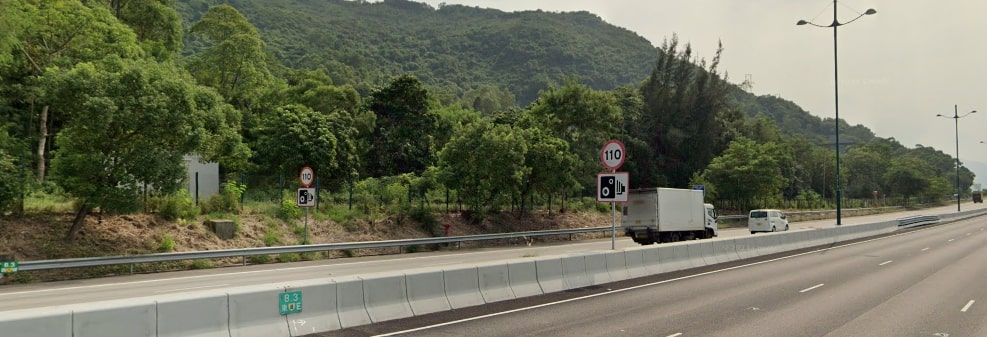Speed Limit: (599, 141, 626, 171), (298, 166, 315, 186)
